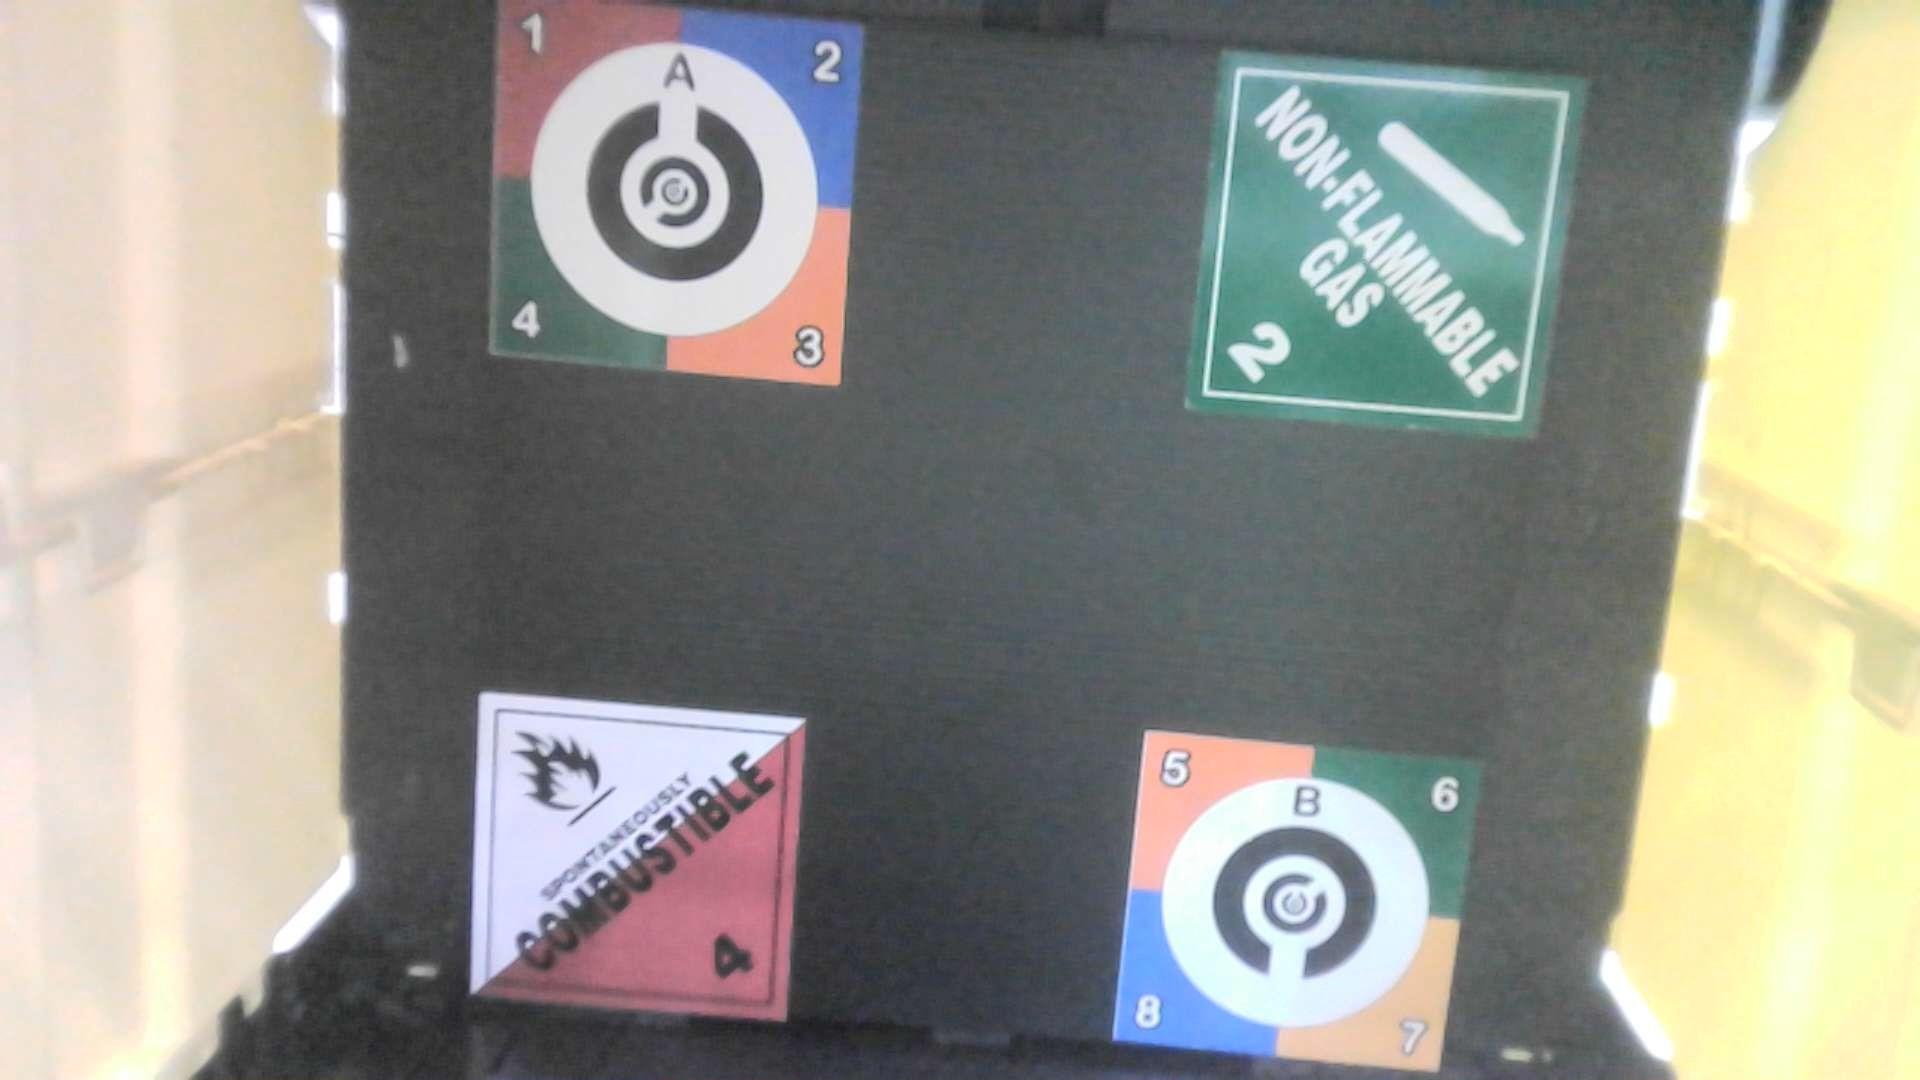non-flammable-gas: (1168, 41, 1596, 455)
spontaneously-combustible: (454, 674, 829, 1044)
